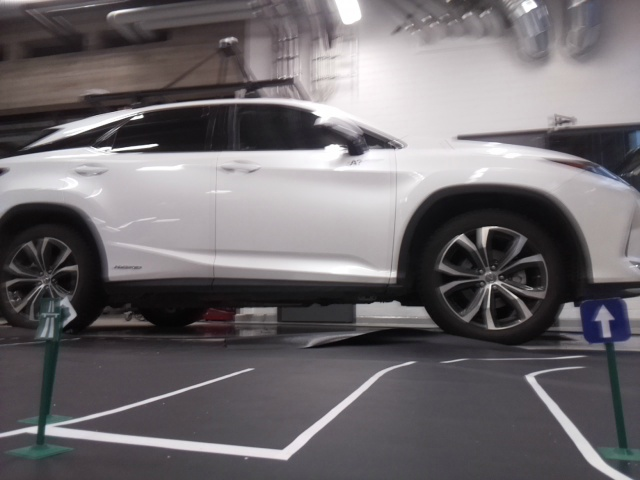OneWay: (580, 300, 628, 342)
